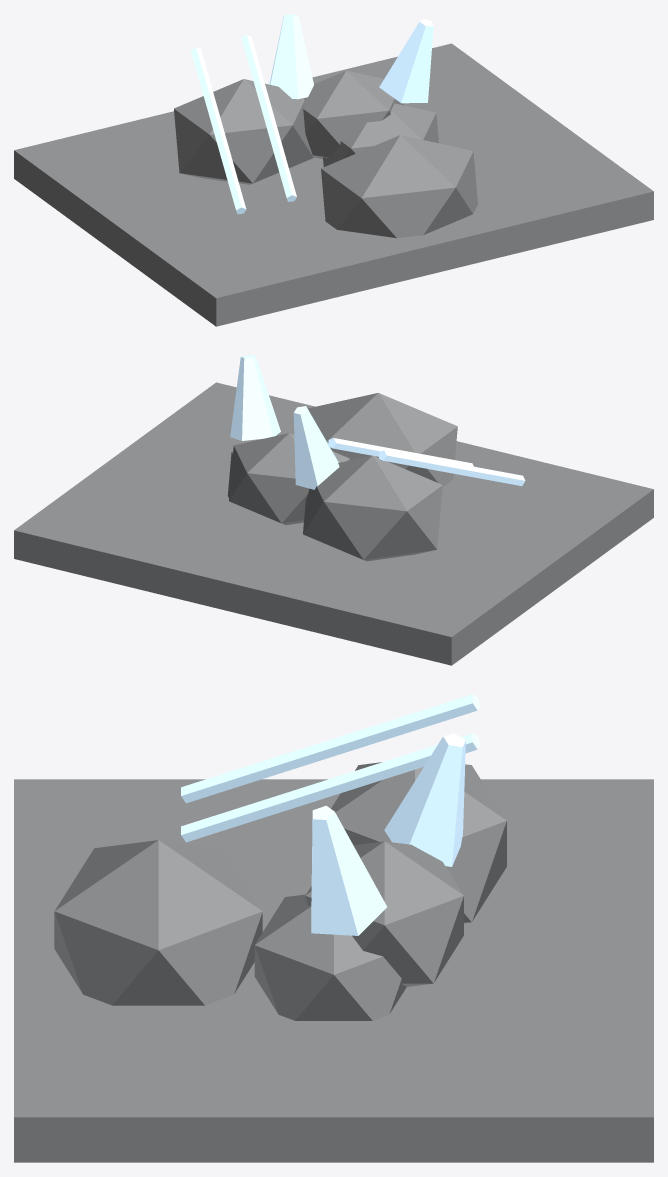
File: old_wood_silver_thread.lod1.glb
The picture shows the model from 3 angles, top to bottom: view 1: azimuth 30°, elevation 25°; view 2: azimuth 150°, elevation 25°; view 3: azimuth 270°, elevation 25°; orthographic projection. The views are drawn at different scales.
Bounding box in the file's own units: 2.25 × 0.8843 × 1.8.
